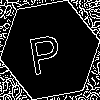P: (25, 25, 64, 76)
